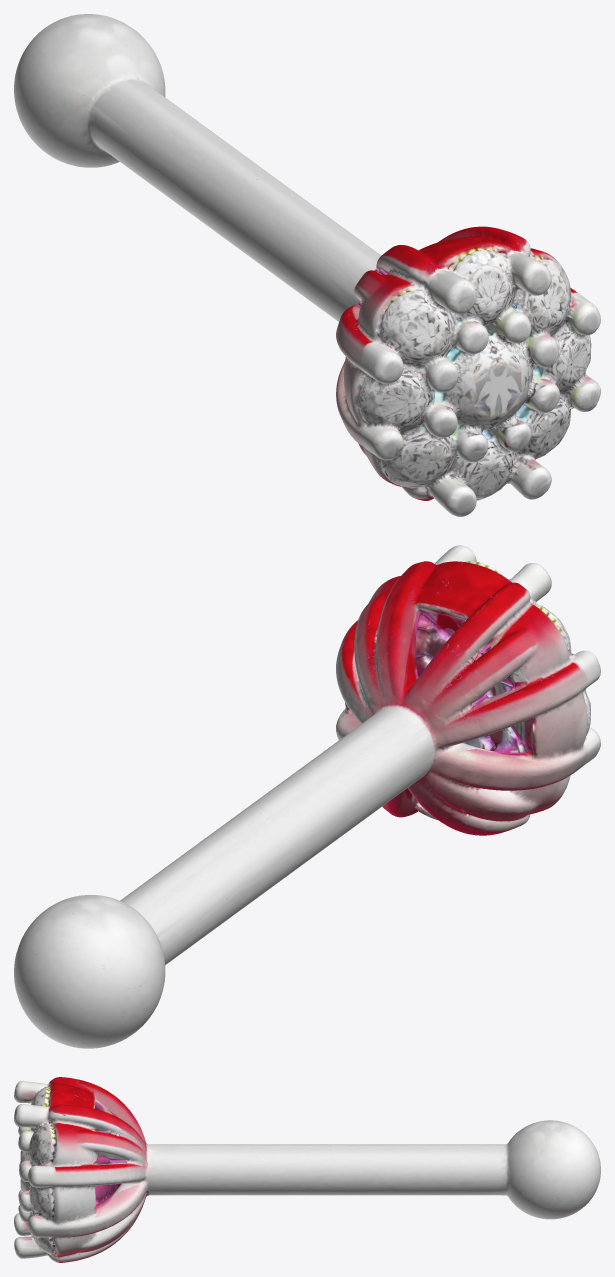
File: nostril_cz.glb
3 views of the same model, one above another, from view 1: azimuth 30°, elevation 25°; view 2: azimuth 150°, elevation 25°; view 3: azimuth 270°, elevation 25° (orthographic). The views are drawn at different scales.
Parts seen in each view (by area): view 1: Mesh_0; view 2: Mesh_0; view 3: Mesh_0.
Part boxes in pixels (x1,y1,x2,y2): Mesh_0: (14,14,600,516); Mesh_0: (14,545,600,1048); Mesh_0: (14,1077,600,1262).
Bounding box in the file's own units: 0.5713 × 0.5866 × 1.9.
1 material, 1 textured.
